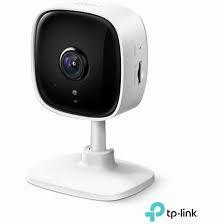tutu: (30, 3, 156, 130)
